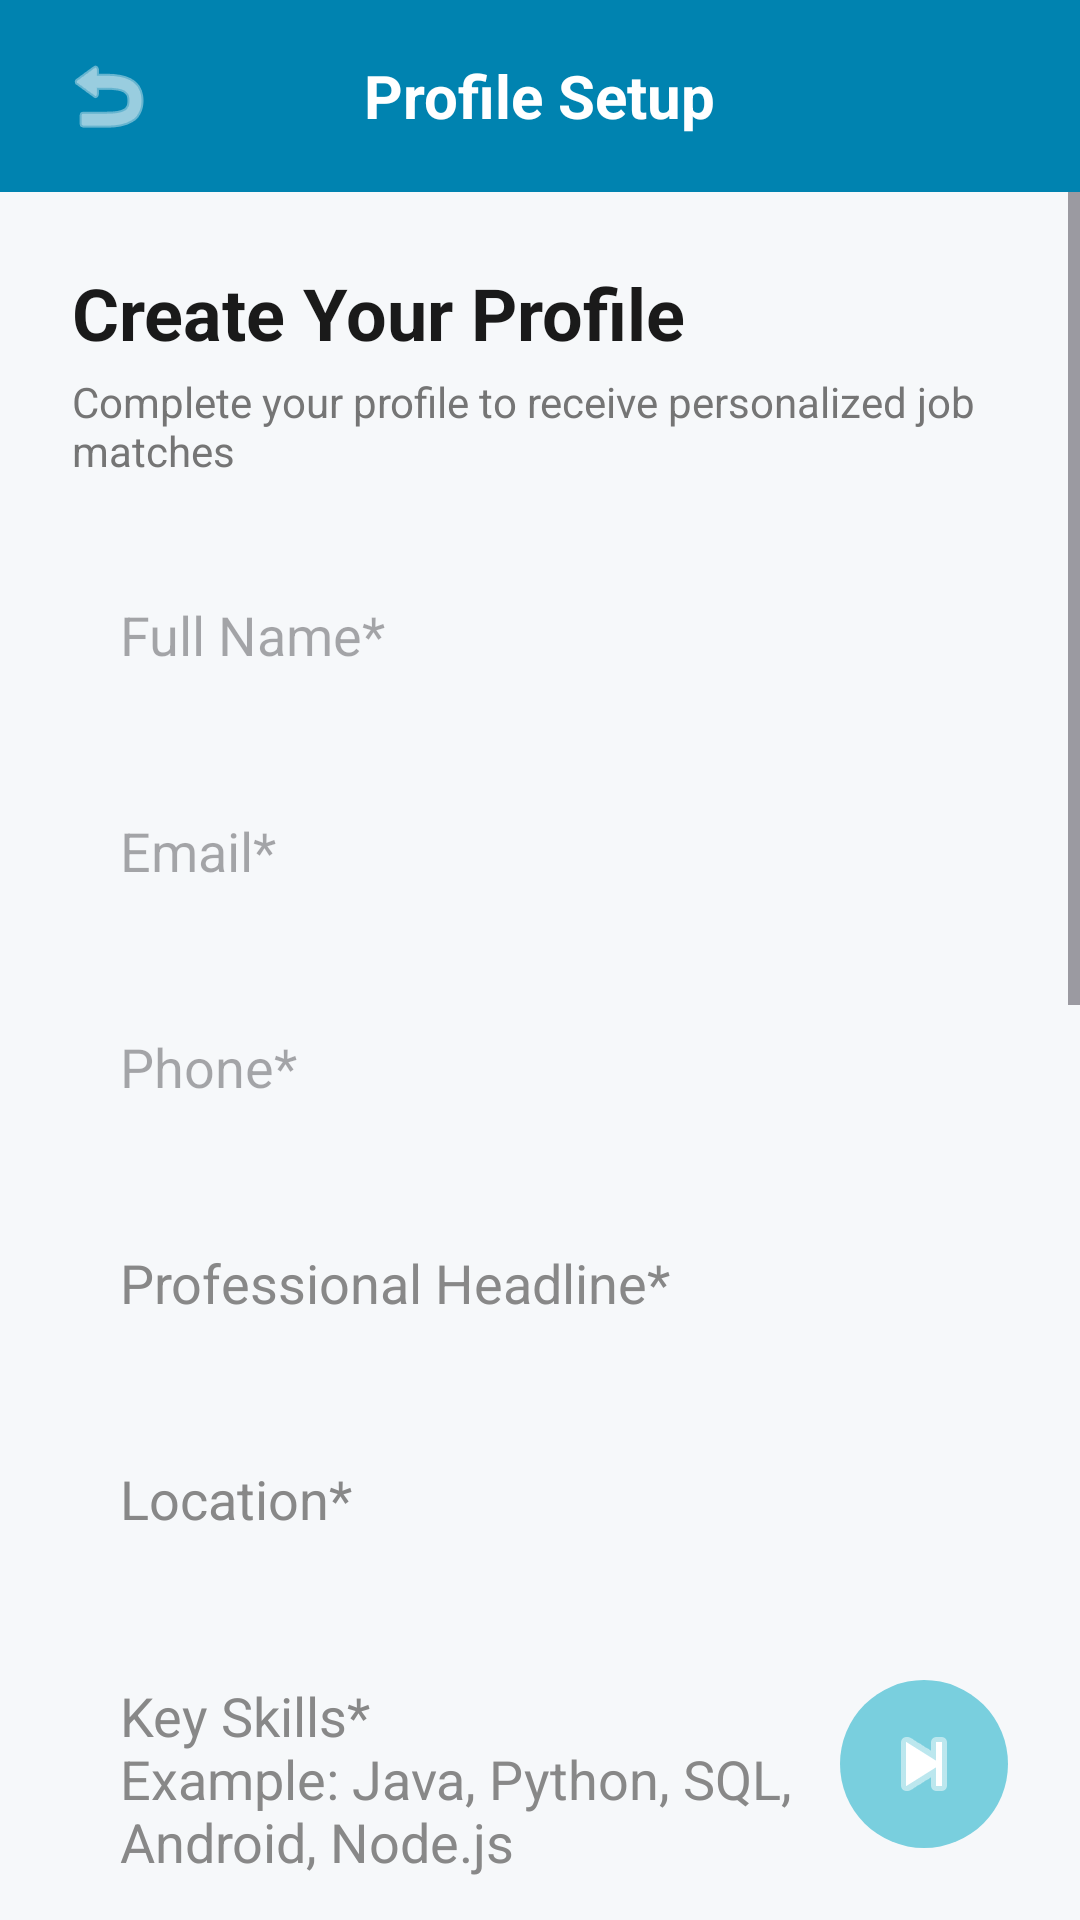

Screen size 1080*1920. Icon name, then its center in pixels as (x,y):
Back: (109,96)
Next: (924,1764)
